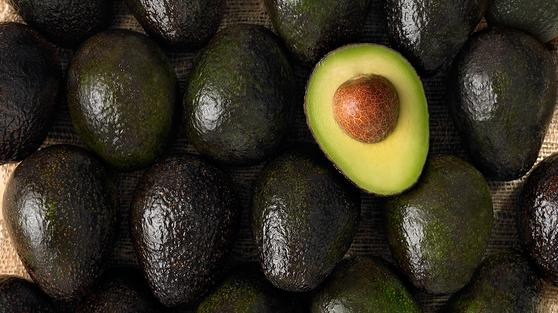avocado: (3, 138, 138, 299), (174, 19, 306, 170), (142, 143, 254, 311), (445, 8, 558, 174), (57, 32, 186, 177), (253, 144, 366, 302), (390, 146, 498, 305)
